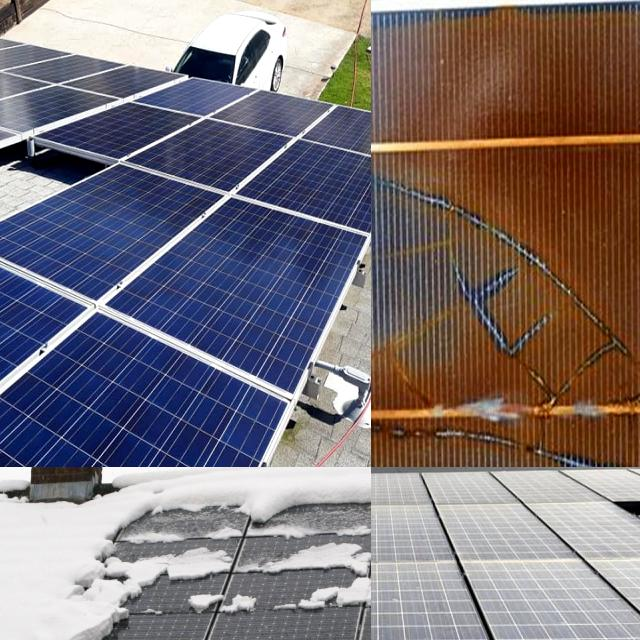crack: (0, 178, 238, 316), (148, 113, 290, 200), (202, 240, 328, 332), (93, 103, 197, 175), (86, 385, 175, 467), (29, 378, 112, 461), (44, 211, 134, 283), (291, 141, 371, 215), (0, 410, 81, 467), (0, 270, 49, 346), (0, 344, 38, 424)
dust: (512, 562, 640, 640), (371, 569, 452, 640), (448, 476, 621, 499), (371, 571, 421, 640), (371, 477, 480, 506), (371, 506, 441, 550), (454, 518, 552, 544), (577, 506, 634, 546), (371, 503, 404, 557), (371, 479, 392, 550), (371, 573, 389, 640), (371, 516, 390, 556)
panel: (130, 536, 258, 636), (42, 540, 129, 640), (107, 472, 225, 538), (231, 467, 347, 511), (271, 514, 371, 564), (287, 570, 371, 625)
shadow: (371, 16, 640, 467)
